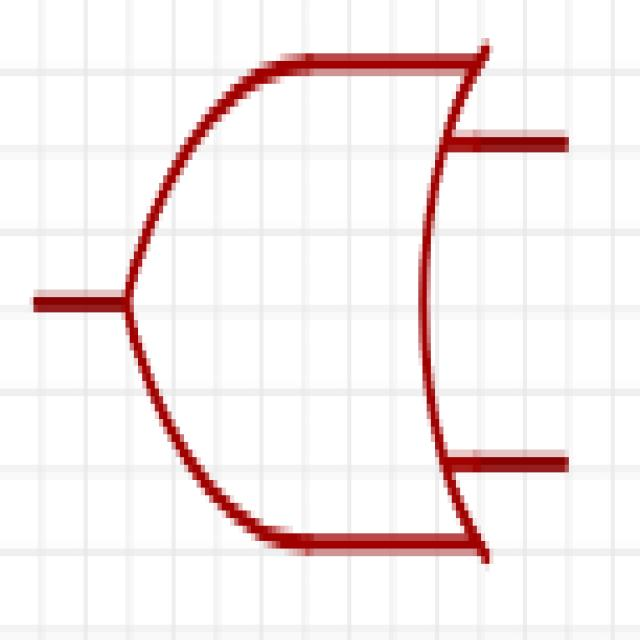or: (21, 0, 579, 628)
